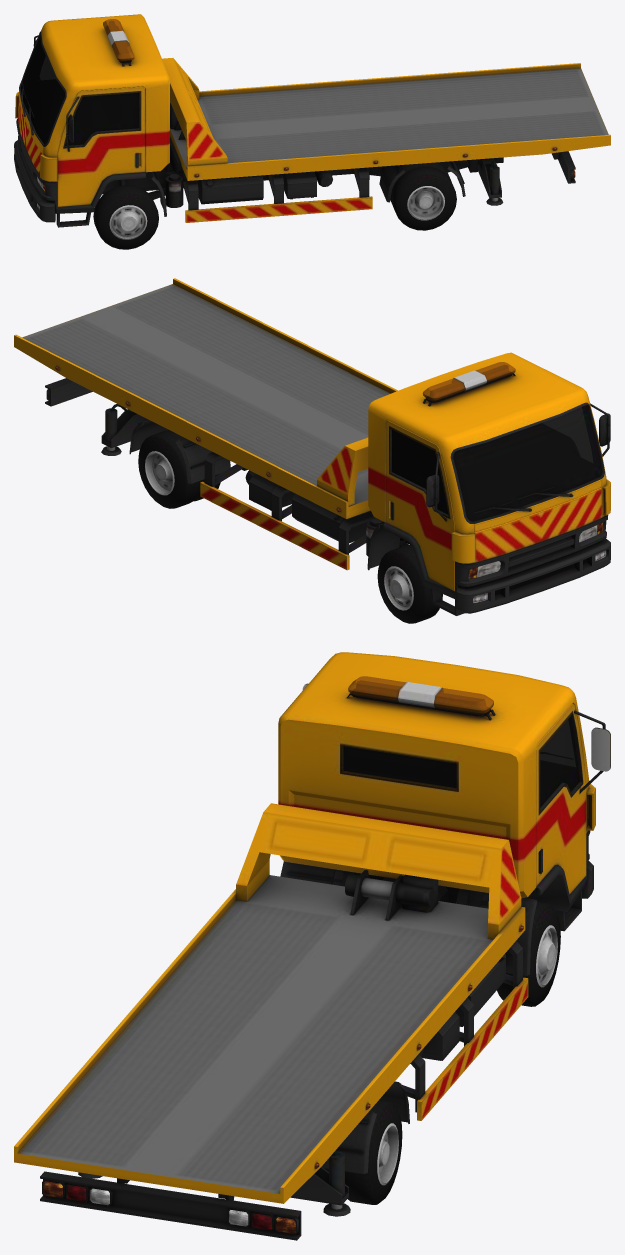
File: cs_towtruck.glb
3 views of the same model, one above another, from view 1: azimuth 30°, elevation 25°; view 2: azimuth 150°, elevation 25°; view 3: azimuth 270°, elevation 25° (orthographic). The views are drawn at different scales.
Parts seen in each view (by area): view 1: towtruck; view 2: towtruck; view 3: towtruck.
Boxes of the visible parts, <box> form: towtruck: <box>14,14,610,249</box>; towtruck: <box>14,278,610,623</box>; towtruck: <box>14,652,610,1240</box>.
Size of the model in its own units: 7.13 by 2.39 by 4.33.
4 materials, 4 textured.
